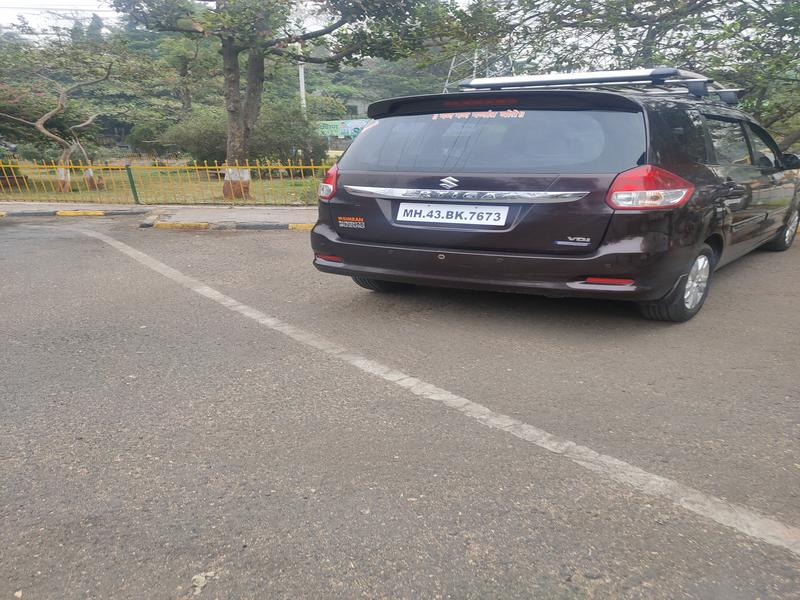license_plate: (394, 192, 513, 240)
